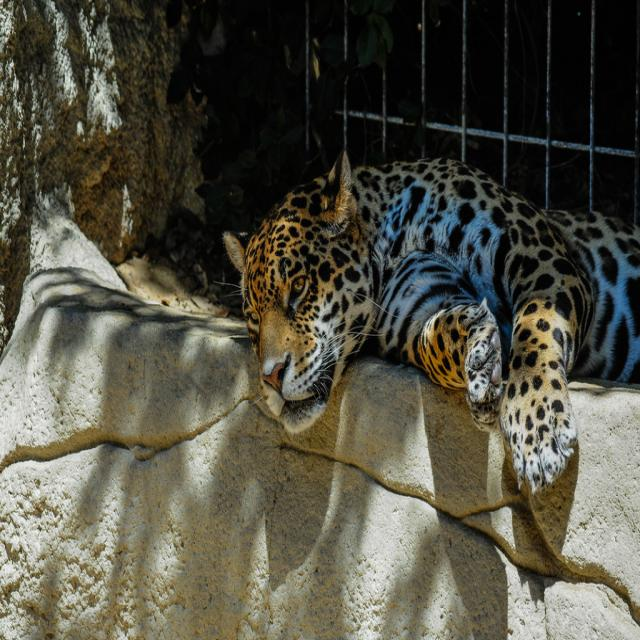Cheetah: (221, 148, 639, 498)
